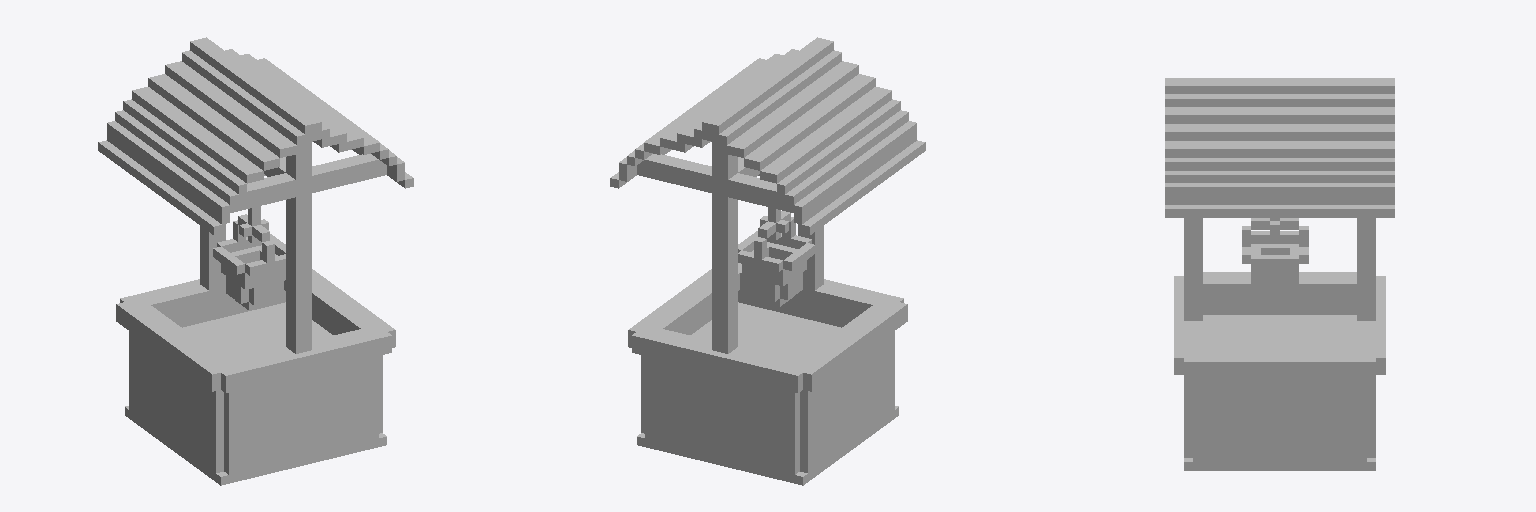
File: Tarefa Poço-03.obj
The picture shows the model from 3 angles: view 1: azimuth 30°, elevation 25°; view 2: azimuth 150°, elevation 25°; view 3: azimuth 270°, elevation 25°; orthographic projection.
Size of the model in its own units: 24 by 40 by 24.